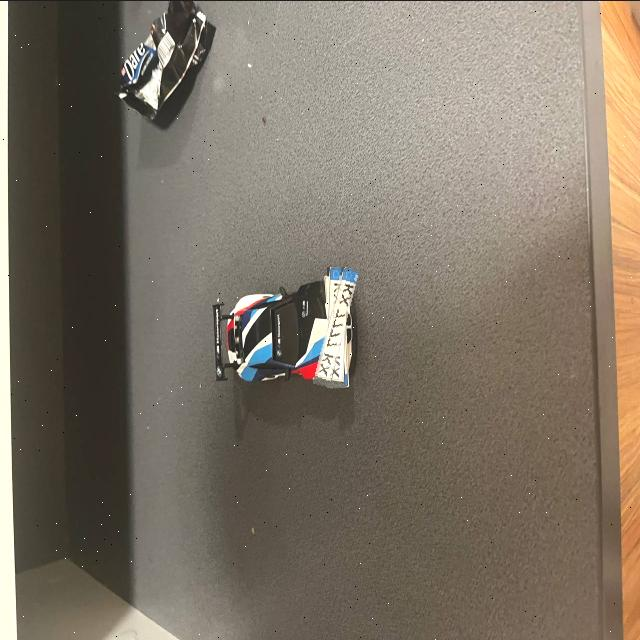KX 7777 KX: (320, 266, 352, 387)
